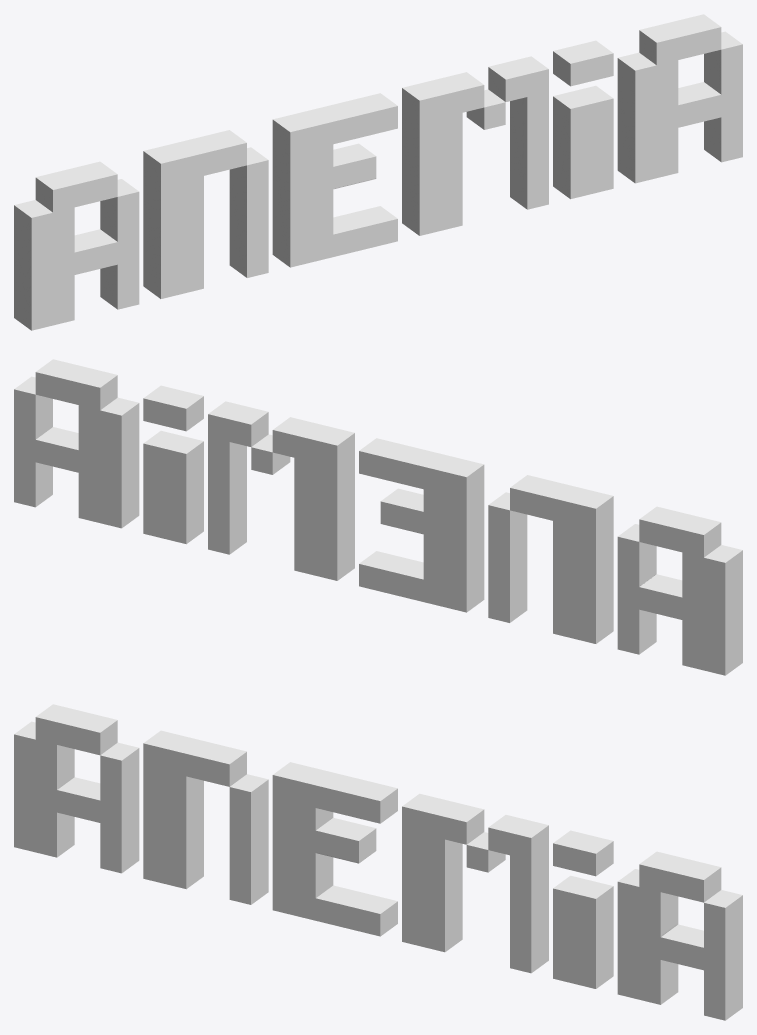
File: anemia_김동글.fbx
3 renders of one model, top to bottom at view 1: azimuth 30°, elevation 25°; view 2: azimuth 150°, elevation 25°; view 3: azimuth 330°, elevation 25°, orthographic.
Parts seen in each view (by area): view 1: node_id5; view 2: node_id5; view 3: node_id5.
Boxes of the visible parts, x1,y1,x2,y2 form: node_id5: (14,14,742,330); node_id5: (14,359,742,675); node_id5: (14,704,742,1020).
Bounding box in the file's own units: 0.512 × 0.0931 × 0.0219.
1 material, 1 textured.
